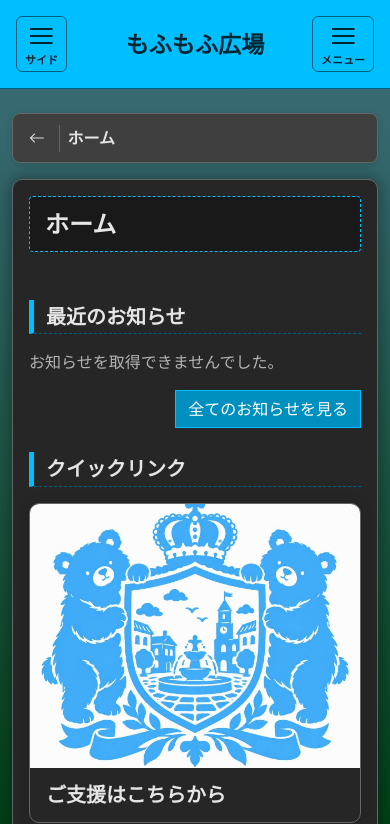
Test case: App rendering › shows Bluemap as a direct header link on desktop and mobile
This screenshot has width=390, height=824.
Click the button with aria-label "ナビゲーションメニュー" at (343, 44), box [312,16,374,72]
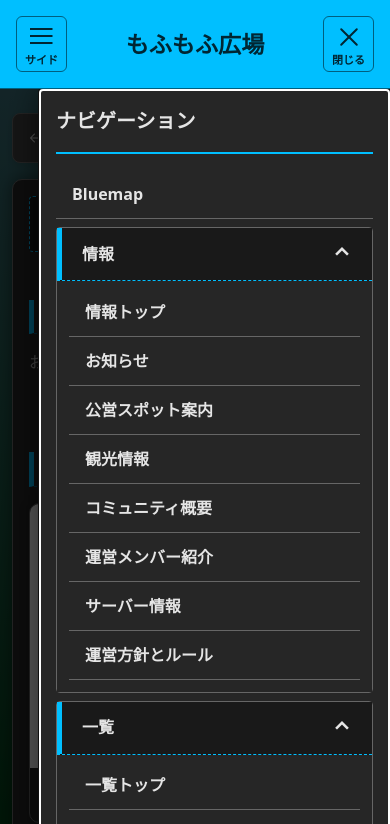
Check: the link to "/bluemap/" is shown, box [56,170,373,219]
